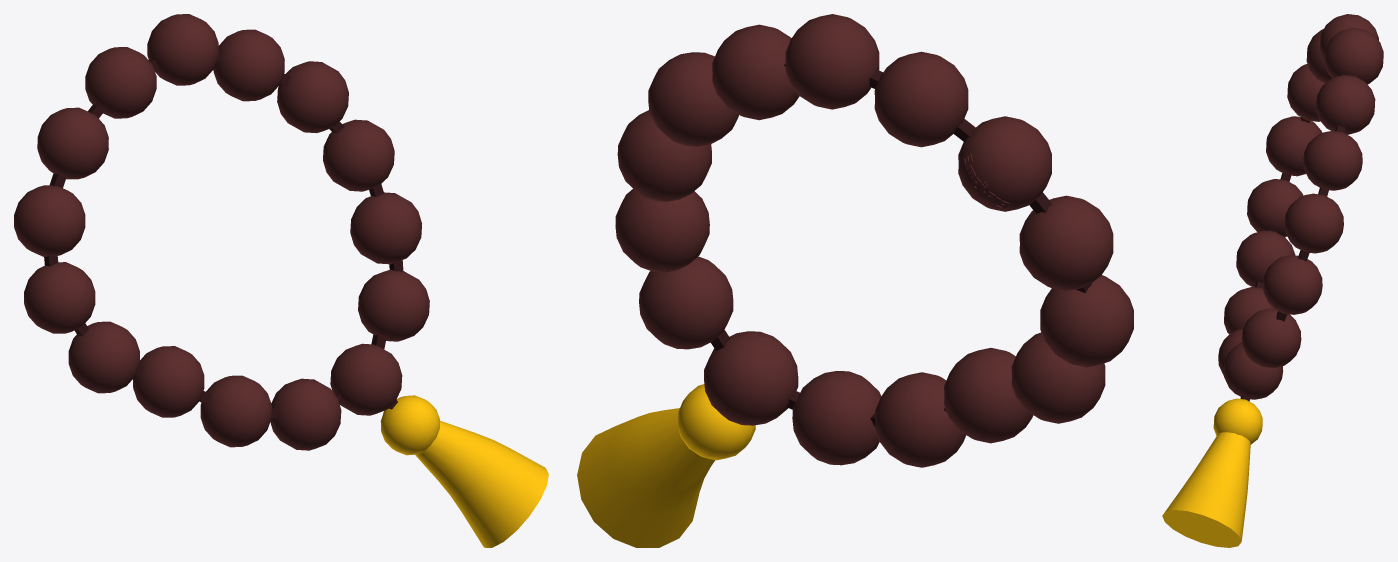
File: prayer_beads.fbx
3 views of the same model, side by side, from view 1: azimuth 30°, elevation 25°; view 2: azimuth 150°, elevation 25°; view 3: azimuth 270°, elevation 25° (orthographic). The views are drawn at different scales.
Parts seen in each view (by area): view 1: Cube.6302; view 2: Cube.6302; view 3: Cube.6302.
Boxes of the visible parts, left/top/right/bottom form: Cube.6302: left=14, top=14, right=548, bottom=547; Cube.6302: left=577, top=14, right=1133, bottom=547; Cube.6302: left=1162, top=14, right=1383, bottom=547.
Bounding box in the file's own units: 205 × 218 × 102.
1 material, 1 textured.
